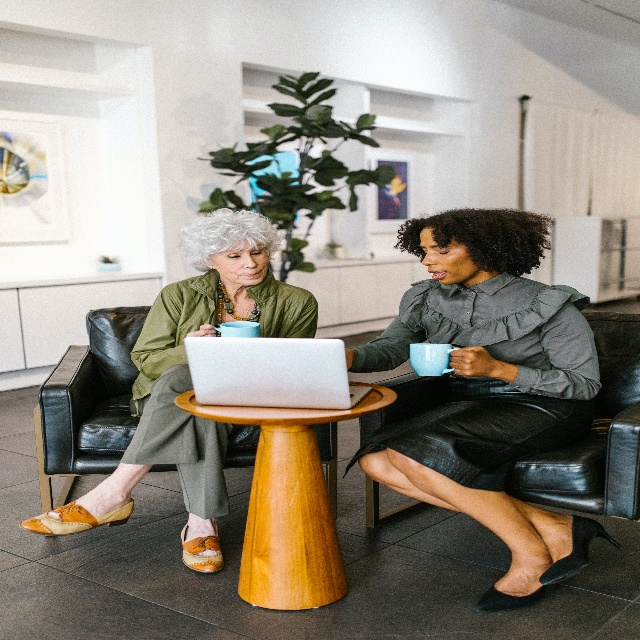Sin_guantes: (449, 346, 492, 381)
